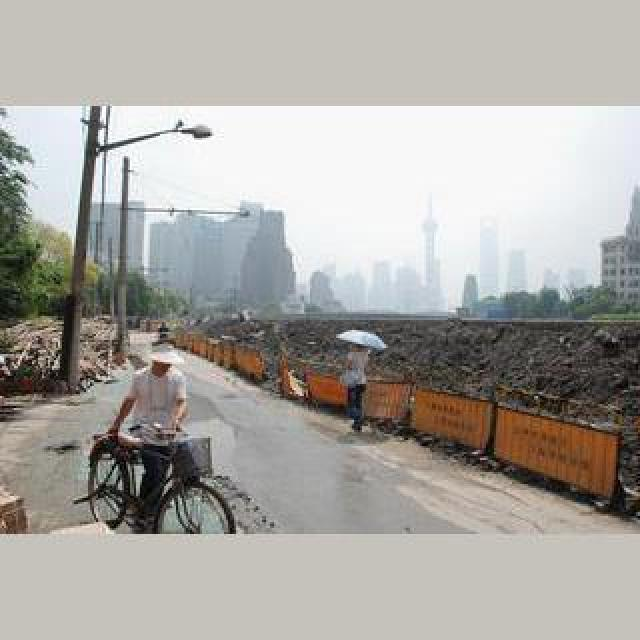MC-Bike: (106, 348, 190, 518), (342, 346, 372, 432)
Person: (87, 428, 237, 532)
